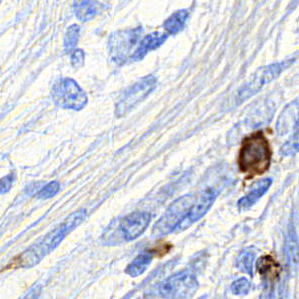Lymphocyte: (236, 130, 273, 179)
